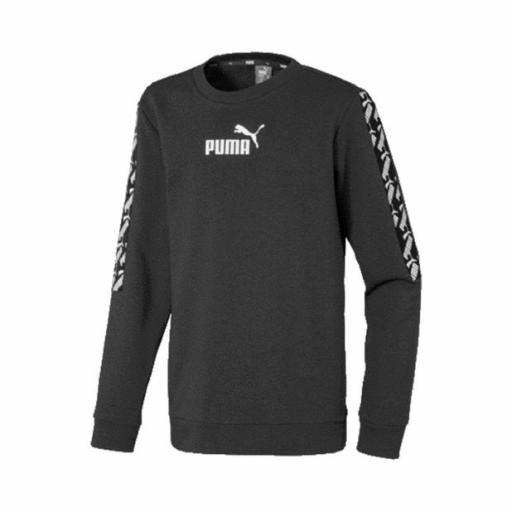Puma: (232, 120, 267, 152)
